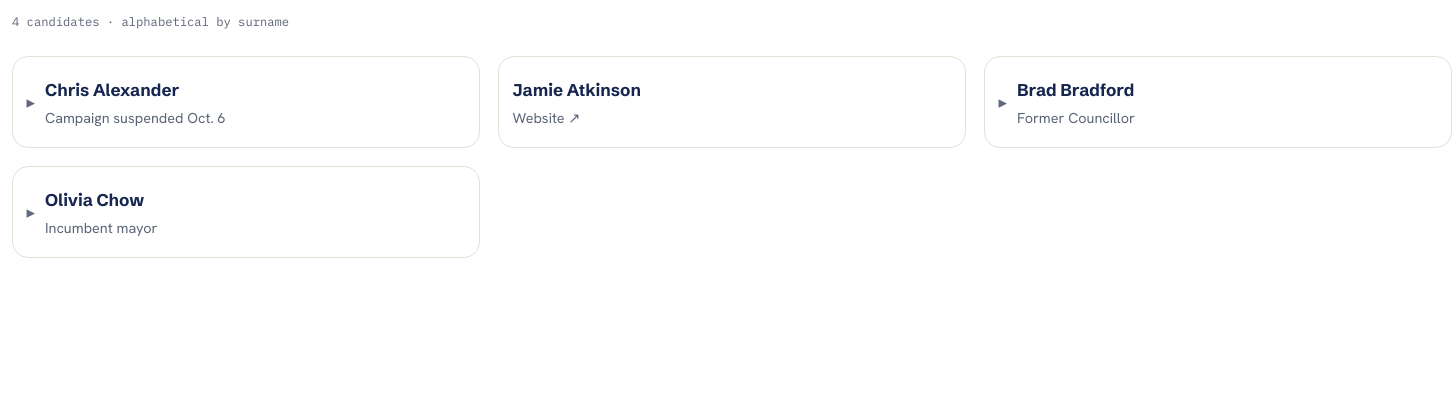
it: CandidateBrowser › opens history from a compact name row
Click the heading "Chris Alexander" at coordinates (135, 103), box [45,79,226,126]
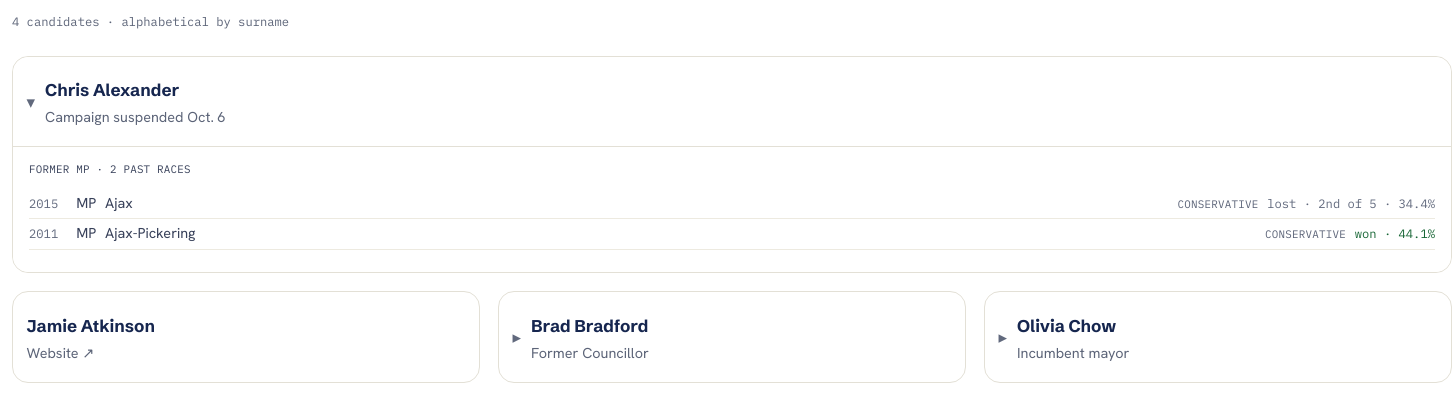
Check: the text "Former MP · 2 past races" is shown, box [29,162,191,176]
